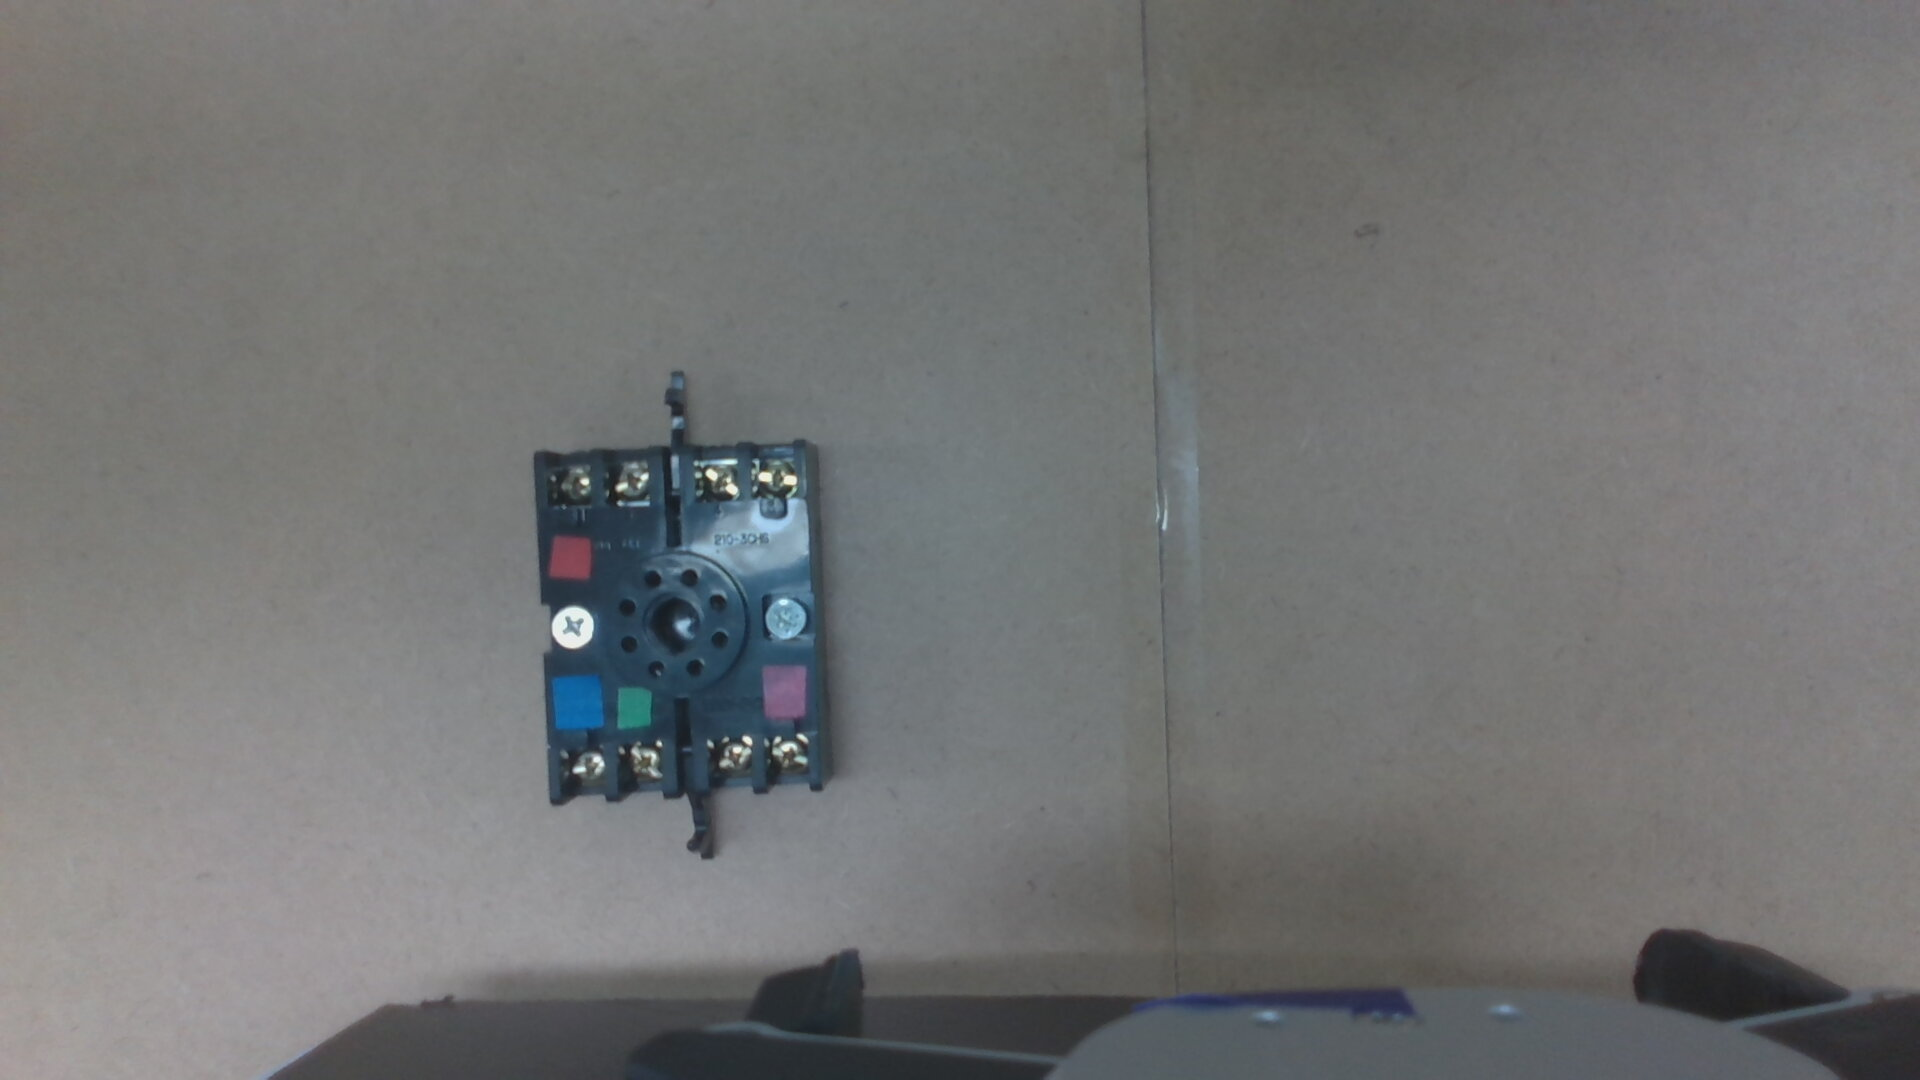timer 2: (767, 737, 807, 773)
timer 6: (553, 464, 591, 502)
timer 7: (560, 750, 604, 789)
timer 8: (620, 742, 661, 786)
